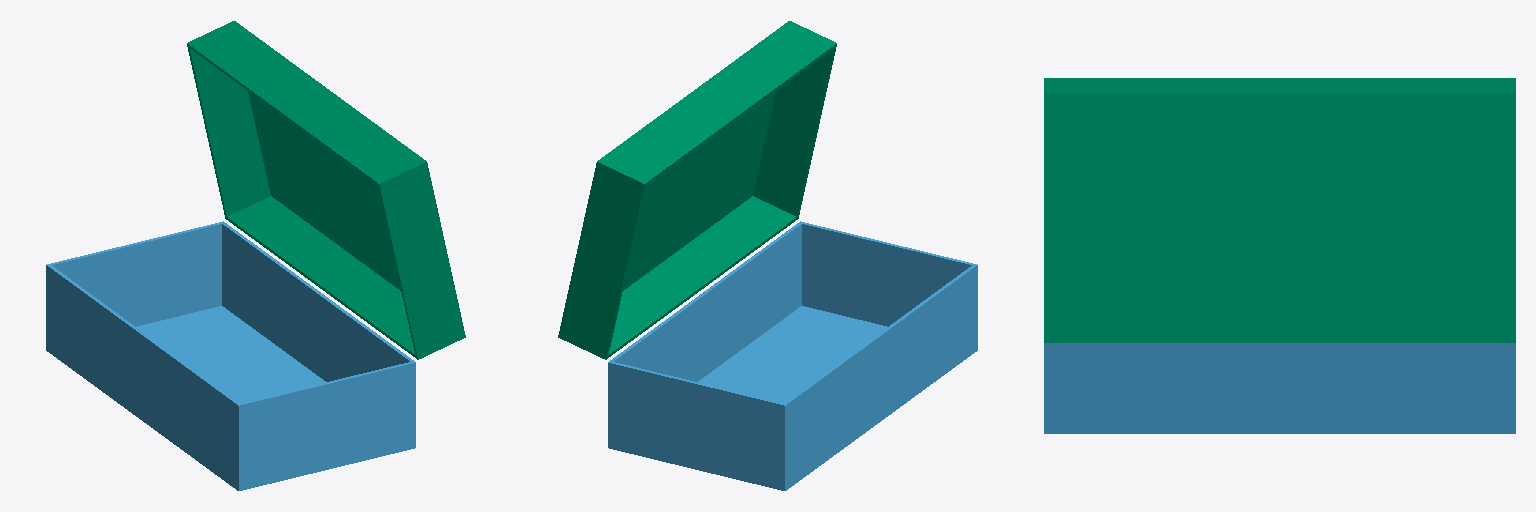
robot.urdf — procedural_box_2:
<?xml version="1.0" ?>
<robot name="procedural_box_2">
  <link name="root">
    <inertial>
      <origin xyz="0 0 0" rpy="0 0 0"/>
      <mass value="0.01"/>
      <inertia ixx="1e-6" ixy="0" ixz="0" iyy="1e-6" iyz="0" izz="1e-6"/>
    </inertial>
  </link>

  <joint name="base_fixed" type="fixed">
    <parent link="root"/>
    <child link="bottom"/>
    <origin xyz="0 0 0" rpy="0 0 0"/>
  </joint>

  <link name="bottom">
    <inertial>
      <origin xyz="0.0 0.0 0.034941882534332426" rpy="0 0 0"/>
      <mass value="1.0"/>
      <inertia ixx="1e-4" ixy="0" ixz="0" iyy="1e-4" iyz="0" izz="1e-4"/>
    </inertial>

    <visual>
      <origin xyz="0.0 0.0 0.0015928758938935227" rpy="0 0 0"/>
      <geometry><box size="0.15498207596857655 0.2911781633827397 0.0031857517877870454"/></geometry>
    </visual>
    <collision>
      <origin xyz="0.0 0.0 0.0015928758938935227" rpy="0 0 0"/>
      <geometry><box size="0.15498207596857655 0.2911781633827397 0.0031857517877870454"/></geometry>
    </collision>

    <visual>
      <origin xyz="0.0 0.14399620579747632 0.03653475842822595" rpy="0 0 0"/>
      <geometry><box size="0.15498207596857655 0.0031857517877870454 0.06988376506866485"/></geometry>
    </visual>
    <collision>
      <origin xyz="0.0 0.14399620579747632 0.03653475842822595" rpy="0 0 0"/>
      <geometry><box size="0.15498207596857655 0.0031857517877870454 0.06988376506866485"/></geometry>
    </collision>

    <visual>
      <origin xyz="0.0 -0.14399620579747632 0.03653475842822595" rpy="0 0 0"/>
      <geometry><box size="0.15498207596857655 0.0031857517877870454 0.06988376506866485"/></geometry>
    </visual>
    <collision>
      <origin xyz="0.0 -0.14399620579747632 0.03653475842822595" rpy="0 0 0"/>
      <geometry><box size="0.15498207596857655 0.0031857517877870454 0.06988376506866485"/></geometry>
    </collision>

    <visual>
      <origin xyz="0.07589816209039475 0.0 0.03653475842822595" rpy="0 0 0"/>
      <geometry><box size="0.0031857517877870454 0.28480665980716563 0.06988376506866485"/></geometry>
    </visual>
    <collision>
      <origin xyz="0.07589816209039475 0.0 0.03653475842822595" rpy="0 0 0"/>
      <geometry><box size="0.0031857517877870454 0.28480665980716563 0.06988376506866485"/></geometry>
    </collision>

    <visual>
      <origin xyz="-0.07589816209039475 0.0 0.03653475842822595" rpy="0 0 0"/>
      <geometry><box size="0.0031857517877870454 0.28480665980716563 0.06988376506866485"/></geometry>
    </visual>
    <collision>
      <origin xyz="-0.07589816209039475 0.0 0.03653475842822595" rpy="0 0 0"/>
      <geometry><box size="0.0031857517877870454 0.28480665980716563 0.06988376506866485"/></geometry>
    </collision>
  </link>

  <joint name="rotation" type="revolute">
    <parent link="bottom"/>
    <child link="top"/>
    <origin xyz="0.0790839138781818 0 0.0730695168564519" rpy="0 0 0"/>
    <axis xyz="0 -1 0"/>
    <dynamics damping="0.01" friction="0.01"/>
    <limit effort="50.0" velocity="50.0" lower="0.5235987755982988" upper="3.05"/>
  </joint>

  <link name="top">
    <inertial>
      <origin xyz="0.0790839138781818 0.0 -0.01974826656669285" rpy="0 0 0"/>
      <mass value="0.2"/>
      <inertia ixx="1e-4" ixy="0" ixz="0" iyy="1e-4" iyz="0" izz="1e-4"/>
    </inertial>

    <visual>
      <origin xyz="0.0790839138781818 0.0 -0.04108940902727922" rpy="0 0 0"/>
      <geometry><box size="0.1581678277563636 0.2911781633827397 0.0031857517877870454"/></geometry>
    </visual>
    <collision>
      <origin xyz="0.0790839138781818 0.0 -0.04108940902727922" rpy="0 0 0"/>
      <geometry><box size="0.1581678277563636 0.2911781633827397 0.0031857517877870454"/></geometry>
    </collision>

    <visual>
      <origin xyz="0.0790839138781818 0.14399620579747632 -0.01974826656669285" rpy="0 0 0"/>
      <geometry><box size="0.1581678277563636 0.0031857517877870454 0.0394965331333857"/></geometry>
    </visual>
    <collision>
      <origin xyz="0.0790839138781818 0.14399620579747632 -0.01974826656669285" rpy="0 0 0"/>
      <geometry><box size="0.1581678277563636 0.0031857517877870454 0.0394965331333857"/></geometry>
    </collision>

    <visual>
      <origin xyz="0.0790839138781818 -0.14399620579747632 -0.01974826656669285" rpy="0 0 0"/>
      <geometry><box size="0.1581678277563636 0.0031857517877870454 0.0394965331333857"/></geometry>
    </visual>
    <collision>
      <origin xyz="0.0790839138781818 -0.14399620579747632 -0.01974826656669285" rpy="0 0 0"/>
      <geometry><box size="0.1581678277563636 0.0031857517877870454 0.0394965331333857"/></geometry>
    </collision>

    <visual>
      <origin xyz="0.15657495186247006 0.0 -0.01974826656669285" rpy="0 0 0"/>
      <geometry><box size="0.0031857517877870454 0.28480665980716563 0.0394965331333857"/></geometry>
    </visual>
    <collision>
      <origin xyz="0.15657495186247006 0.0 -0.01974826656669285" rpy="0 0 0"/>
      <geometry><box size="0.0031857517877870454 0.28480665980716563 0.0394965331333857"/></geometry>
    </collision>

    <visual>
      <origin xyz="0.0015928758938935227 0.0 -0.01974826656669285" rpy="0 0 0"/>
      <geometry><box size="0.0031857517877870454 0.28480665980716563 0.0394965331333857"/></geometry>
    </visual>
    <collision>
      <origin xyz="0.0015928758938935227 0.0 -0.01974826656669285" rpy="0 0 0"/>
      <geometry><box size="0.0031857517877870454 0.28480665980716563 0.0394965331333857"/></geometry>
    </collision>
  </link>
</robot>

--- Facts derived from the render (not from the file) ---
Views: 3 orthographic renders of the robot side by side, from view 1: azimuth 30°, elevation 25°; view 2: azimuth 150°, elevation 25°; view 3: azimuth 270°, elevation 25°.
Model procedural_box_2 with 3 links and 2 joints (1 revolute, 1 fixed), rooted at root, posed all joints at 0 but 1 set to mid-range because 0 is outside their limits (rotation = 1.79).
Links seen in each view (by area): view 1: bottom, top; view 2: bottom, top; view 3: top, bottom.
Boxes of the visible links, x1,y1,x2,y2 form: bottom: (46,221,415,490); top: (187,21,465,359); bottom: (608,221,977,490); top: (558,21,836,359); top: (1044,78,1515,342); bottom: (1044,343,1515,433).
Bounding box of the posed robot: 0.1983 × 0.2912 × 0.2367 m (x, y, z).
Geometry: primitives only (box / cylinder / sphere), no mesh files.
